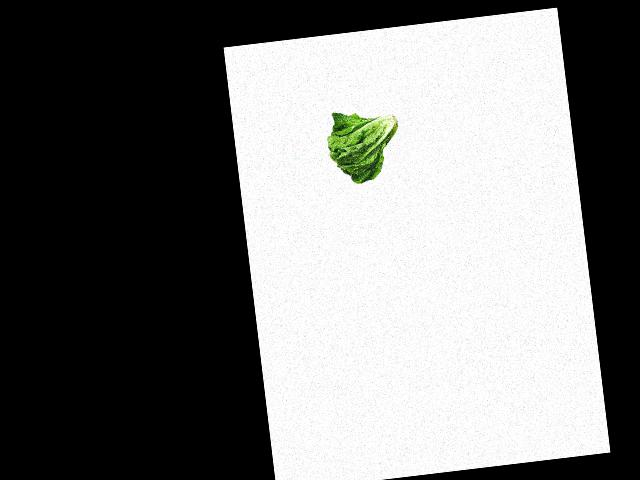lettuce: (323, 106, 408, 188)
